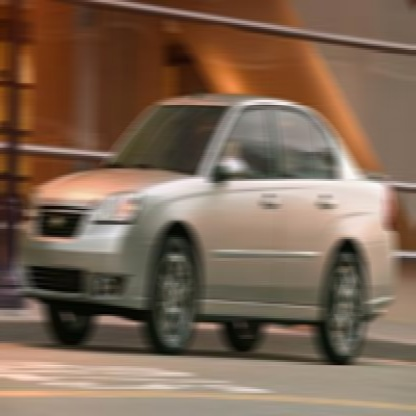Vehicle: (13, 90, 400, 368)
